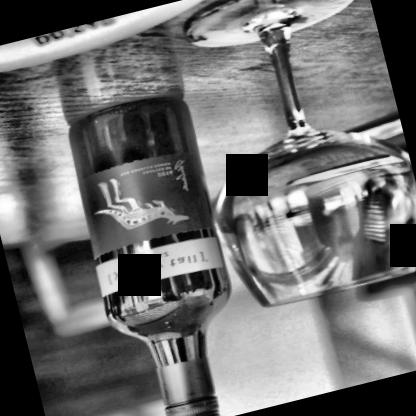yellowtail: (71, 140, 226, 299)
